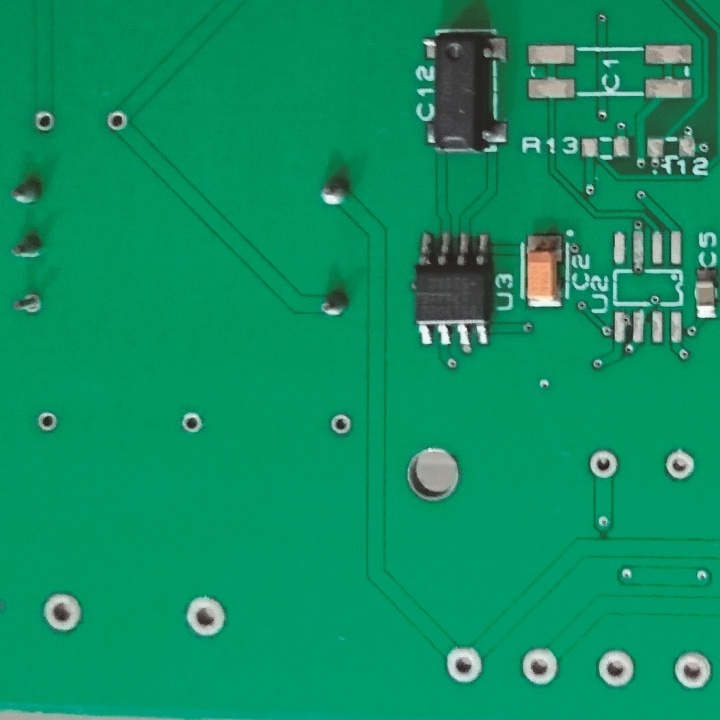F: (181, 594, 227, 642), (41, 589, 88, 635), (593, 647, 639, 690), (519, 643, 561, 689), (442, 643, 486, 686), (671, 649, 716, 691), (662, 443, 701, 486), (587, 446, 622, 483), (8, 289, 44, 318), (101, 110, 129, 135), (31, 108, 56, 135), (327, 411, 354, 435), (35, 409, 59, 434), (179, 411, 205, 433)
